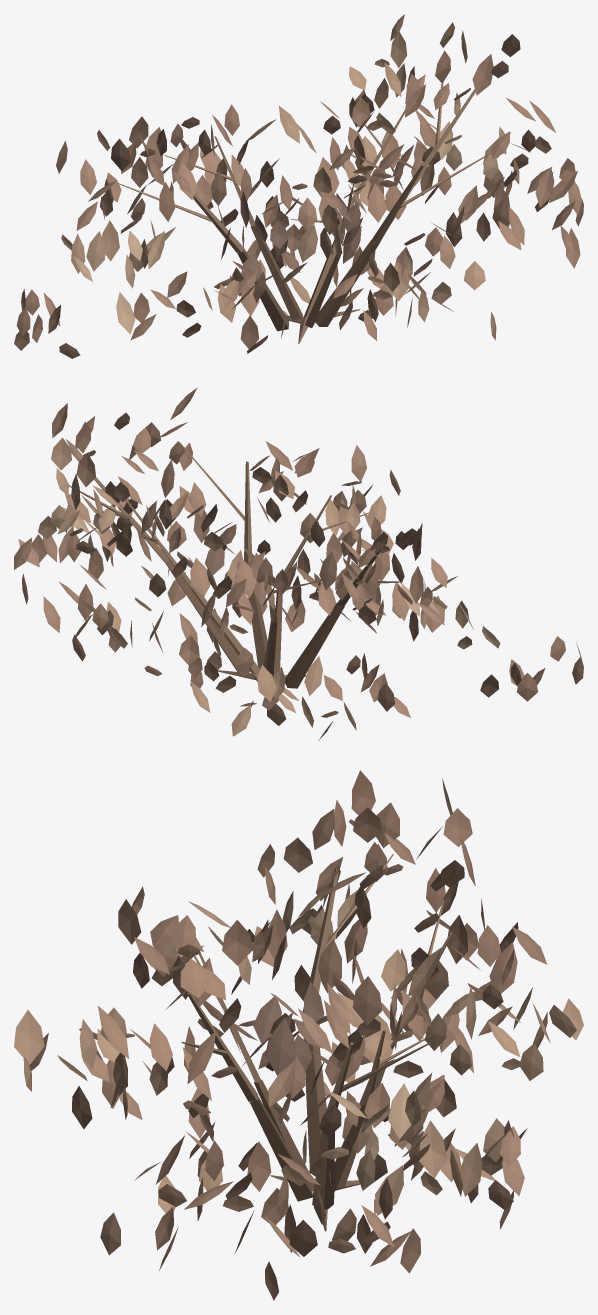
Rendered from bush_3d_02_copper.glb.
3 renders of one model, top to bottom at view 1: azimuth 30°, elevation 25°; view 2: azimuth 150°, elevation 25°; view 3: azimuth 270°, elevation 25°, orthographic. The views are drawn at different scales.
Parts seen in each view (by area): view 1: bush_3d_02_copper_foliage, bush_3d_02_copper_wood; view 2: bush_3d_02_copper_foliage, bush_3d_02_copper_wood; view 3: bush_3d_02_copper_foliage, bush_3d_02_copper_wood.
Part boxes in pixels (<box>): bush_3d_02_copper_foliage: <box>14,14,583,358</box>; bush_3d_02_copper_wood: <box>117,74,497,343</box>; bush_3d_02_copper_foliage: <box>14,387,583,740</box>; bush_3d_02_copper_wood: <box>69,442,401,688</box>; bush_3d_02_copper_foliage: <box>14,770,583,1300</box>; bush_3d_02_copper_wood: <box>181,854,453,1231</box>.
Size of the model in its own units: 3.4 by 1.45 by 2.1.
